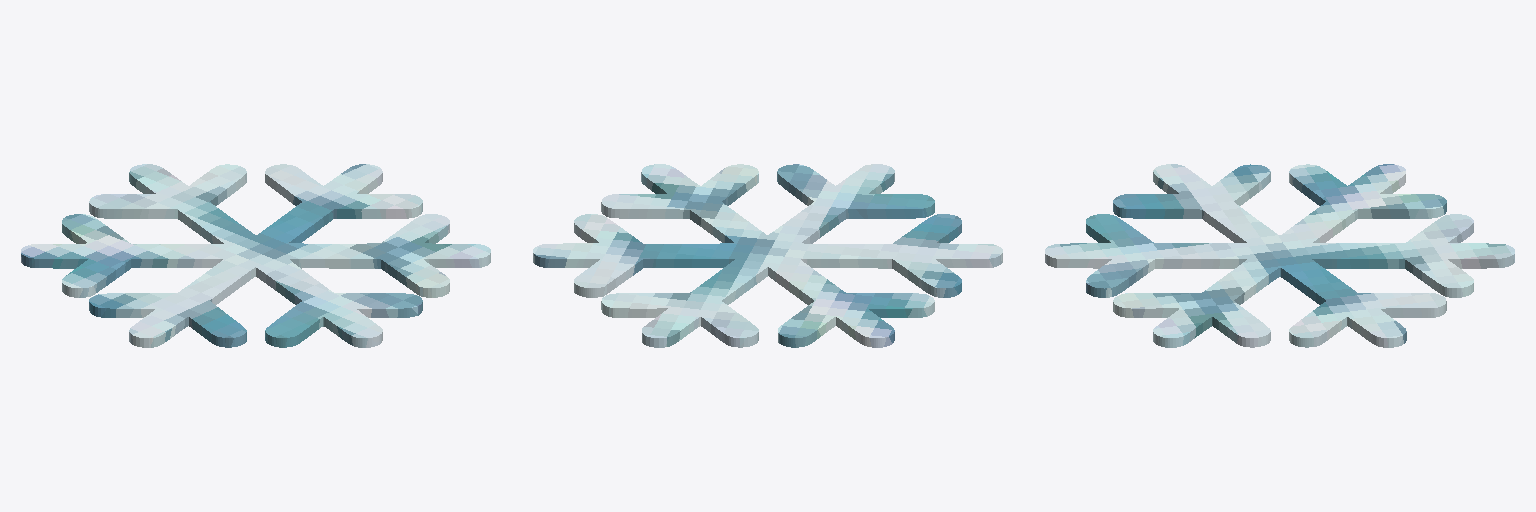
3 views of the same model, side by side, from view 1: azimuth 30°, elevation 25°; view 2: azimuth 150°, elevation 25°; view 3: azimuth 270°, elevation 25° (orthographic).
Parts seen in each view (by area): view 1: obj_0; view 2: obj_0; view 3: obj_0.
Part boxes in pixels (left/top/right/bottom): obj_0: left=21, top=164, right=490, bottom=347; obj_0: left=533, top=164, right=1002, bottom=347; obj_0: left=1045, top=164, right=1514, bottom=347.
Size of the model in its own units: 4.26 by 0.1084 by 4.86.
Materials: 1 (1 with a texture image).